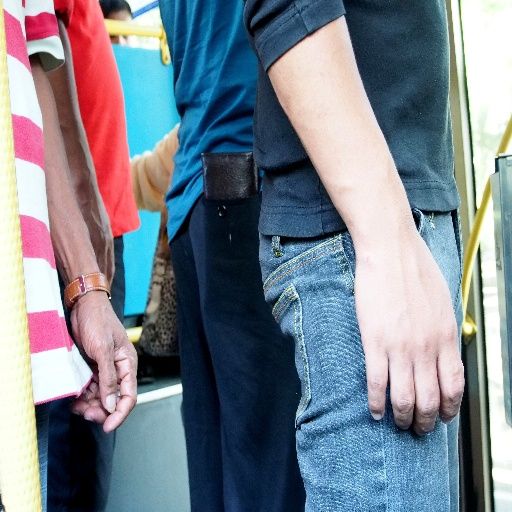hand: (352, 213, 466, 439), (58, 288, 137, 427), (75, 198, 115, 288)
